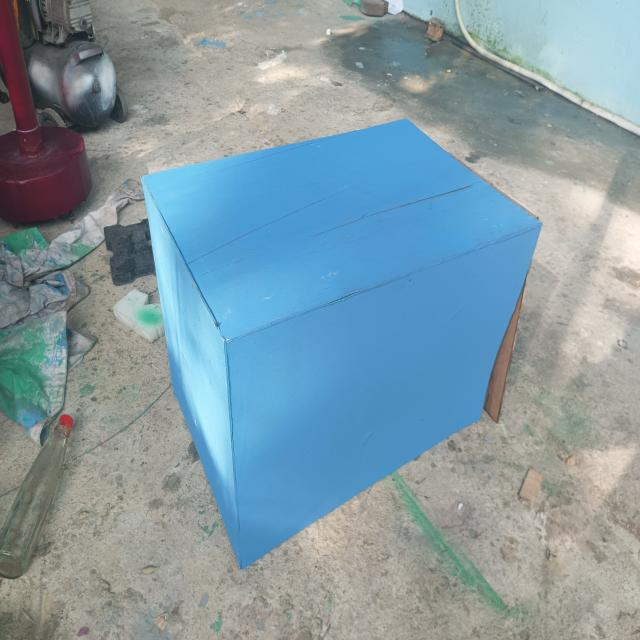blue_box: (142, 120, 538, 562)
